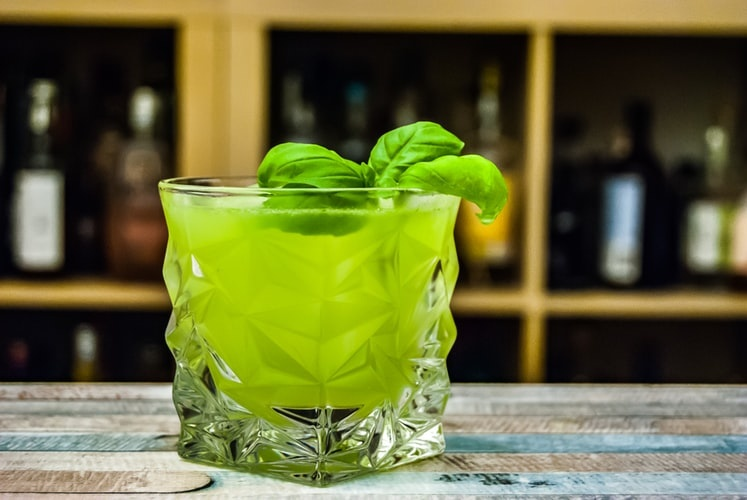whiskey: (150, 169, 455, 468), (373, 139, 529, 373)
